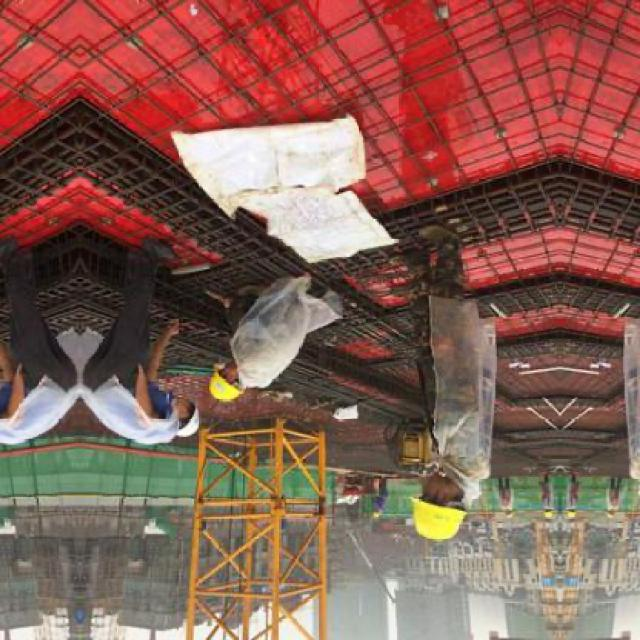con casco: (388, 458, 483, 555), (206, 353, 264, 413), (160, 385, 222, 436)
